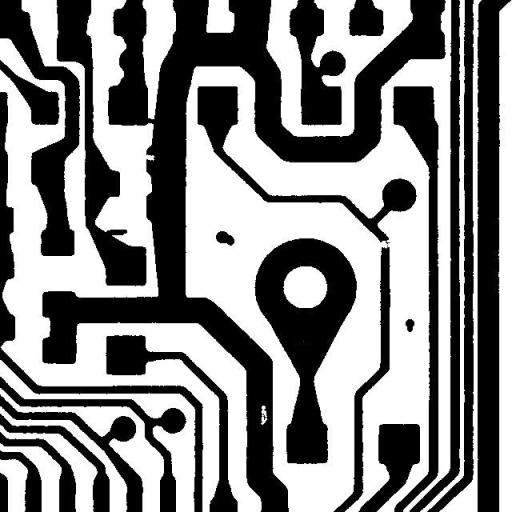copper: (208, 223, 242, 253), (398, 311, 422, 339)
mousebite: (136, 146, 162, 168)
open: (370, 232, 400, 256)
pin-hole: (253, 398, 274, 432)
short: (136, 110, 166, 134)
spur: (96, 222, 134, 243)
